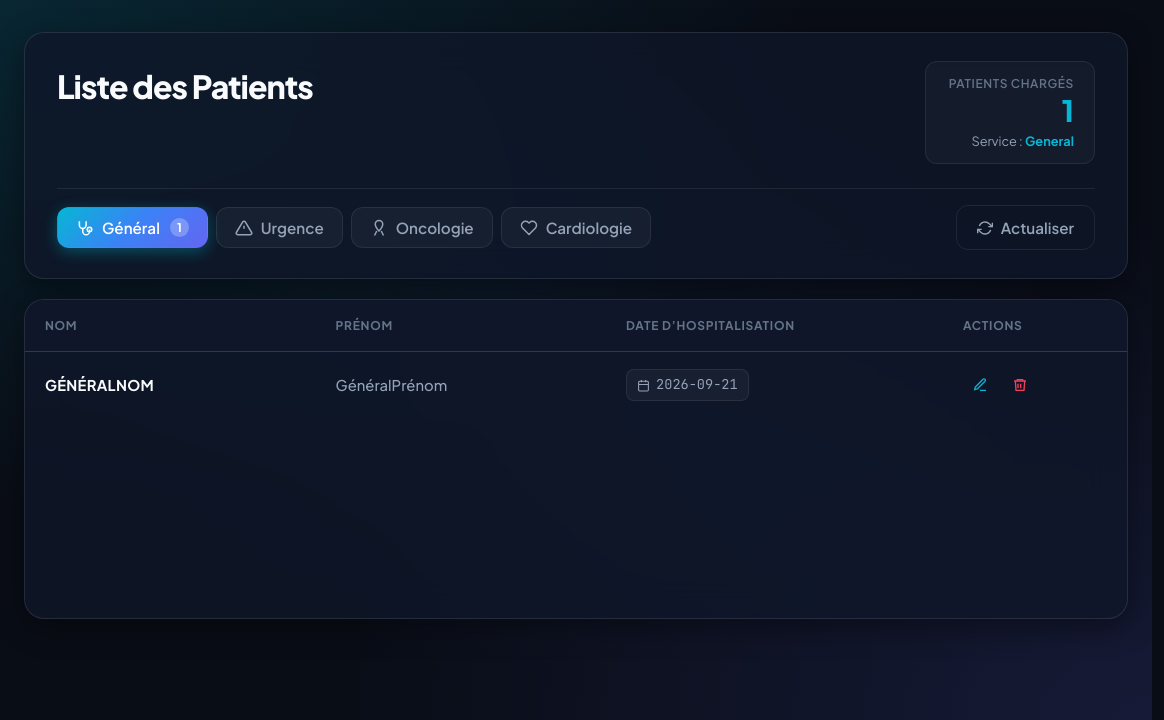
PatientsView service tabs › cardiologie tab selects the service and renders its patient data
Click the tab with id "tab-cardiologie": (576, 228) [501,207,651,248]
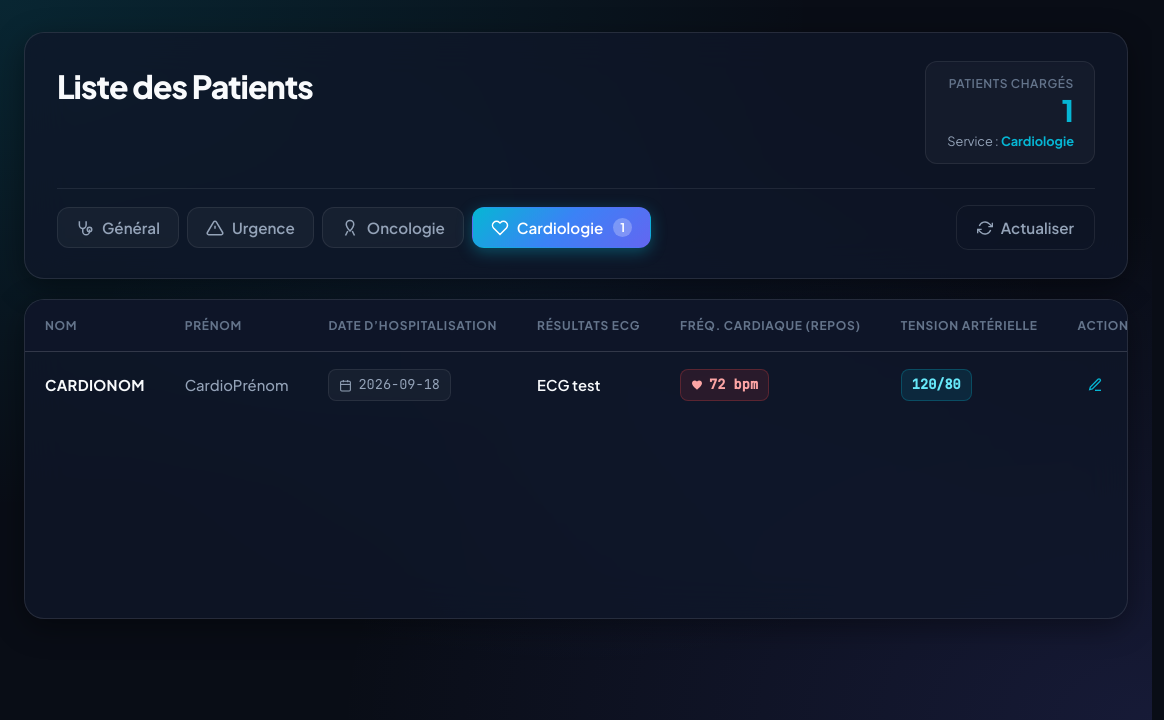
Expected: the tab with id "tab-cardiologie" shows "Cardiologie", [472,207,651,248]
Expected: the table shows "CardioPrénom", [185,376,288,394]
Expected: the table shows "ECG test", [537,376,601,394]
